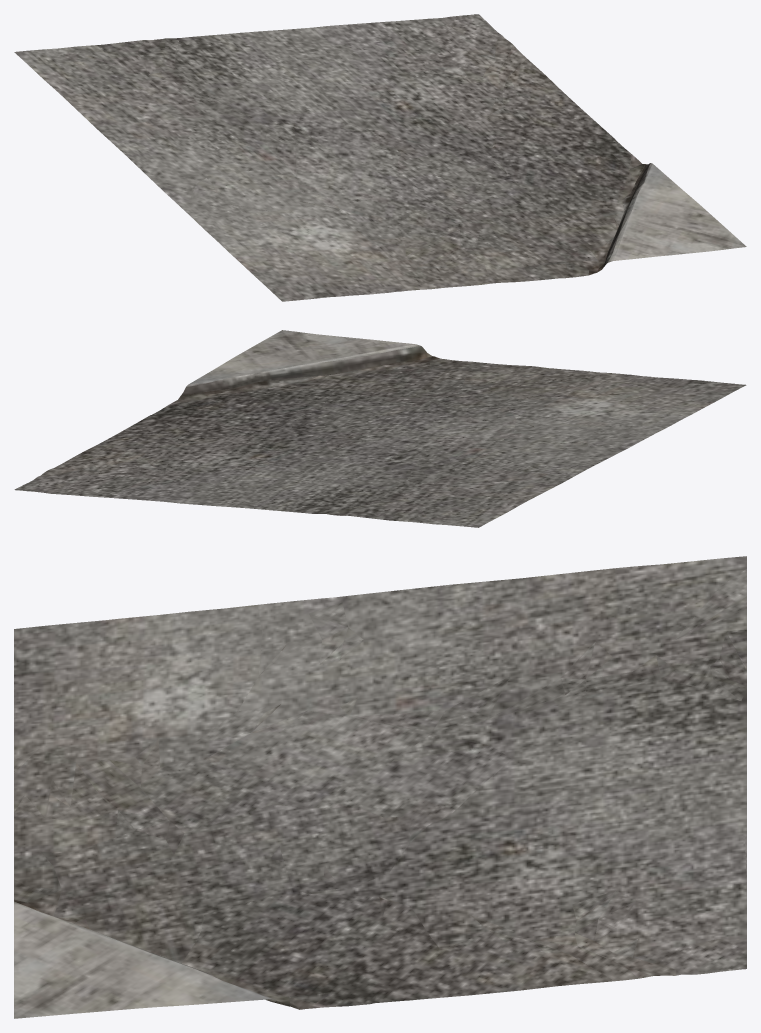
3 views of the same model, one above another, from view 1: azimuth 30°, elevation 25°; view 2: azimuth 150°, elevation 25°; view 3: azimuth 270°, elevation 25° (orthographic). The views are drawn at different scales.
Bounding box in the file's own units: 1.67 × 0.3855 × 1.67.
Materials: 2 (2 with a texture image).
